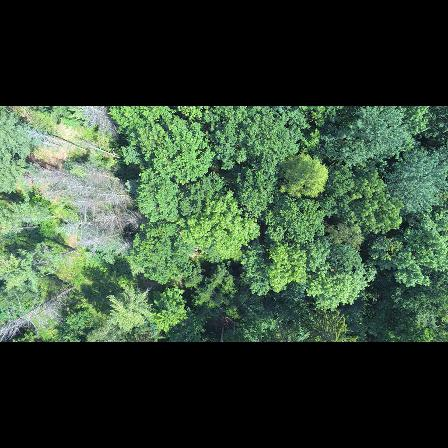Dead: (0, 283, 77, 338), (79, 106, 126, 136), (29, 130, 84, 152), (19, 167, 77, 187), (56, 214, 107, 236), (82, 228, 127, 251), (82, 161, 126, 184), (97, 208, 135, 229), (63, 180, 112, 195), (95, 186, 133, 201)
